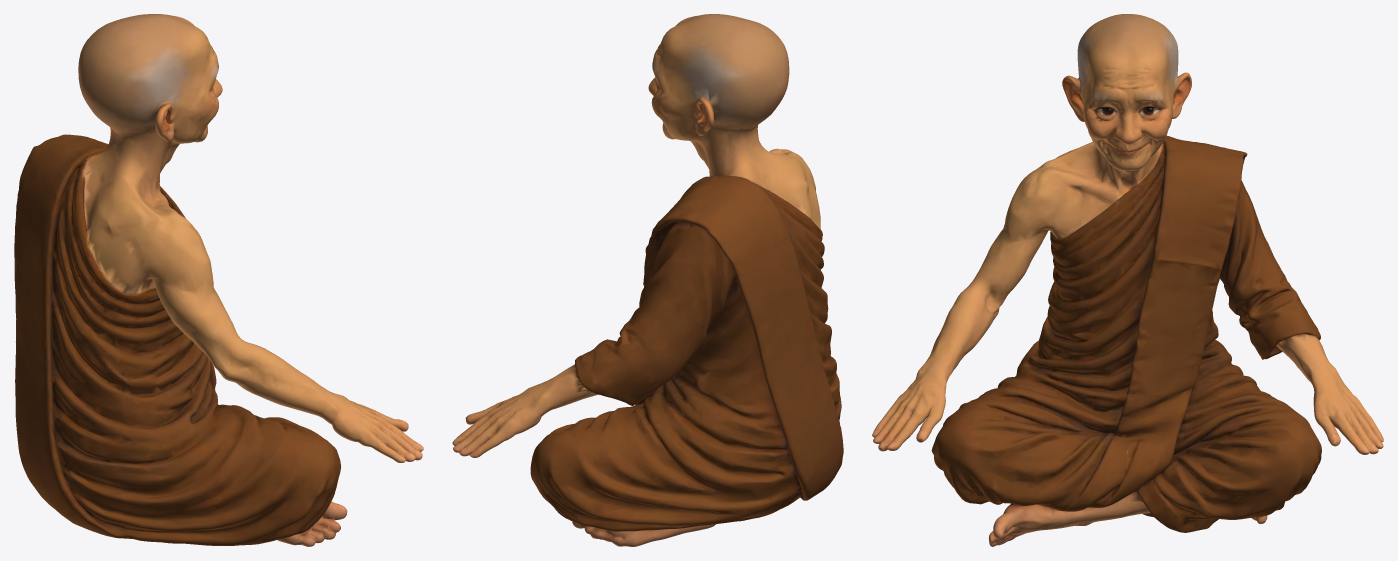
Rendered from monk-senior.glb.
3 renders of one model, left to right at view 1: azimuth 30°, elevation 25°; view 2: azimuth 150°, elevation 25°; view 3: azimuth 270°, elevation 25°, orthographic. The views are drawn at different scales.
Visible parts, largest first — view 1: tripo_node_dd42ecfa-8640-494b-b948-06d48b9e2599; view 2: tripo_node_dd42ecfa-8640-494b-b948-06d48b9e2599; view 3: tripo_node_dd42ecfa-8640-494b-b948-06d48b9e2599.
Boxes of the visible parts, box(x1,y1,x2,y2) form: tripo_node_dd42ecfa-8640-494b-b948-06d48b9e2599: box(14, 14, 423, 546); tripo_node_dd42ecfa-8640-494b-b948-06d48b9e2599: box(452, 14, 843, 546); tripo_node_dd42ecfa-8640-494b-b948-06d48b9e2599: box(872, 14, 1383, 546).
Bounding box in the file's own units: 0.5474 × 1 × 0.9724.
1 material, 1 textured.
